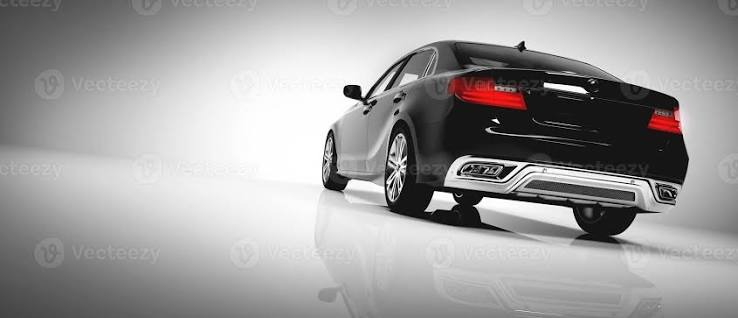car: (320, 30, 708, 284), (323, 36, 695, 243)
